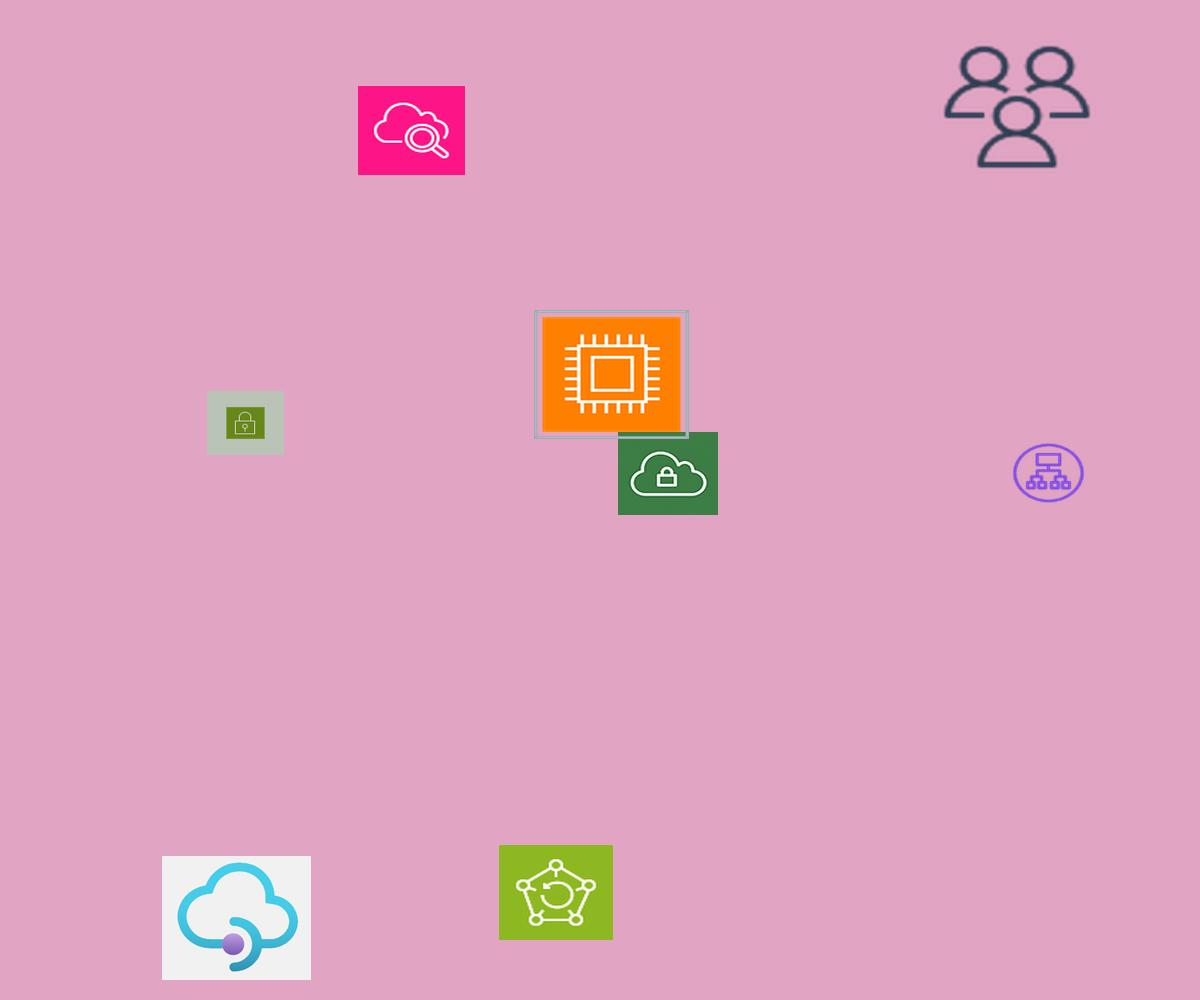AWS-Backup: (499, 845, 613, 940)
AWS-Category_Compute: (534, 310, 689, 439)
AWS-CloudWatch: (358, 86, 465, 175)
AWS-Private_vpc: (618, 432, 718, 515)
AWS-Public-subnet: (207, 391, 284, 455)
AWS-Res_Elastic-Load-Balancing_Application-Load-Balancer: (1010, 441, 1087, 505)
AWS-Res_Users: (938, 41, 1096, 173)
Azure_api_gateway: (162, 856, 311, 980)
